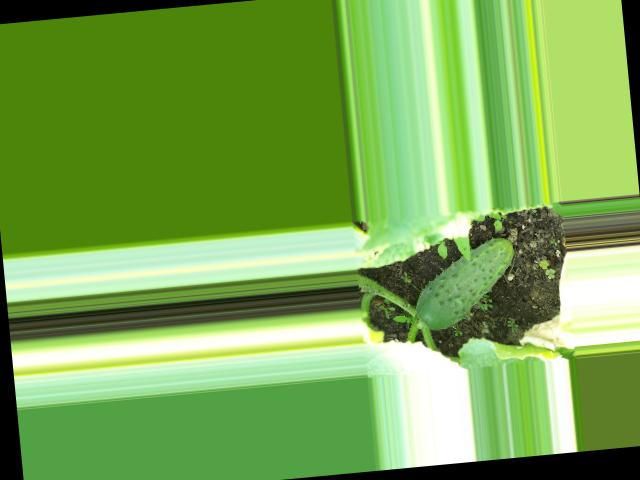cucumber: (408, 236, 520, 332)
